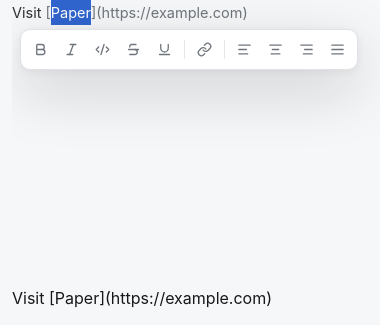
Test case: MarkdownEditor integration › removes an existing markdown link from the floating toolbar
Click the button named "Link": [204, 50] box [190,35,219,64]
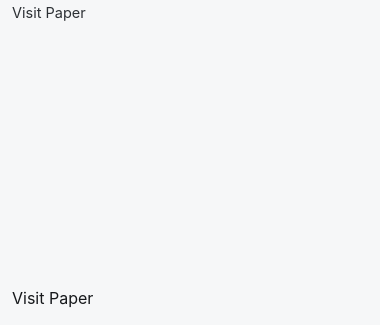
Result: the text box labelled "Visit Paper" is shown at [12,4,86,21]
